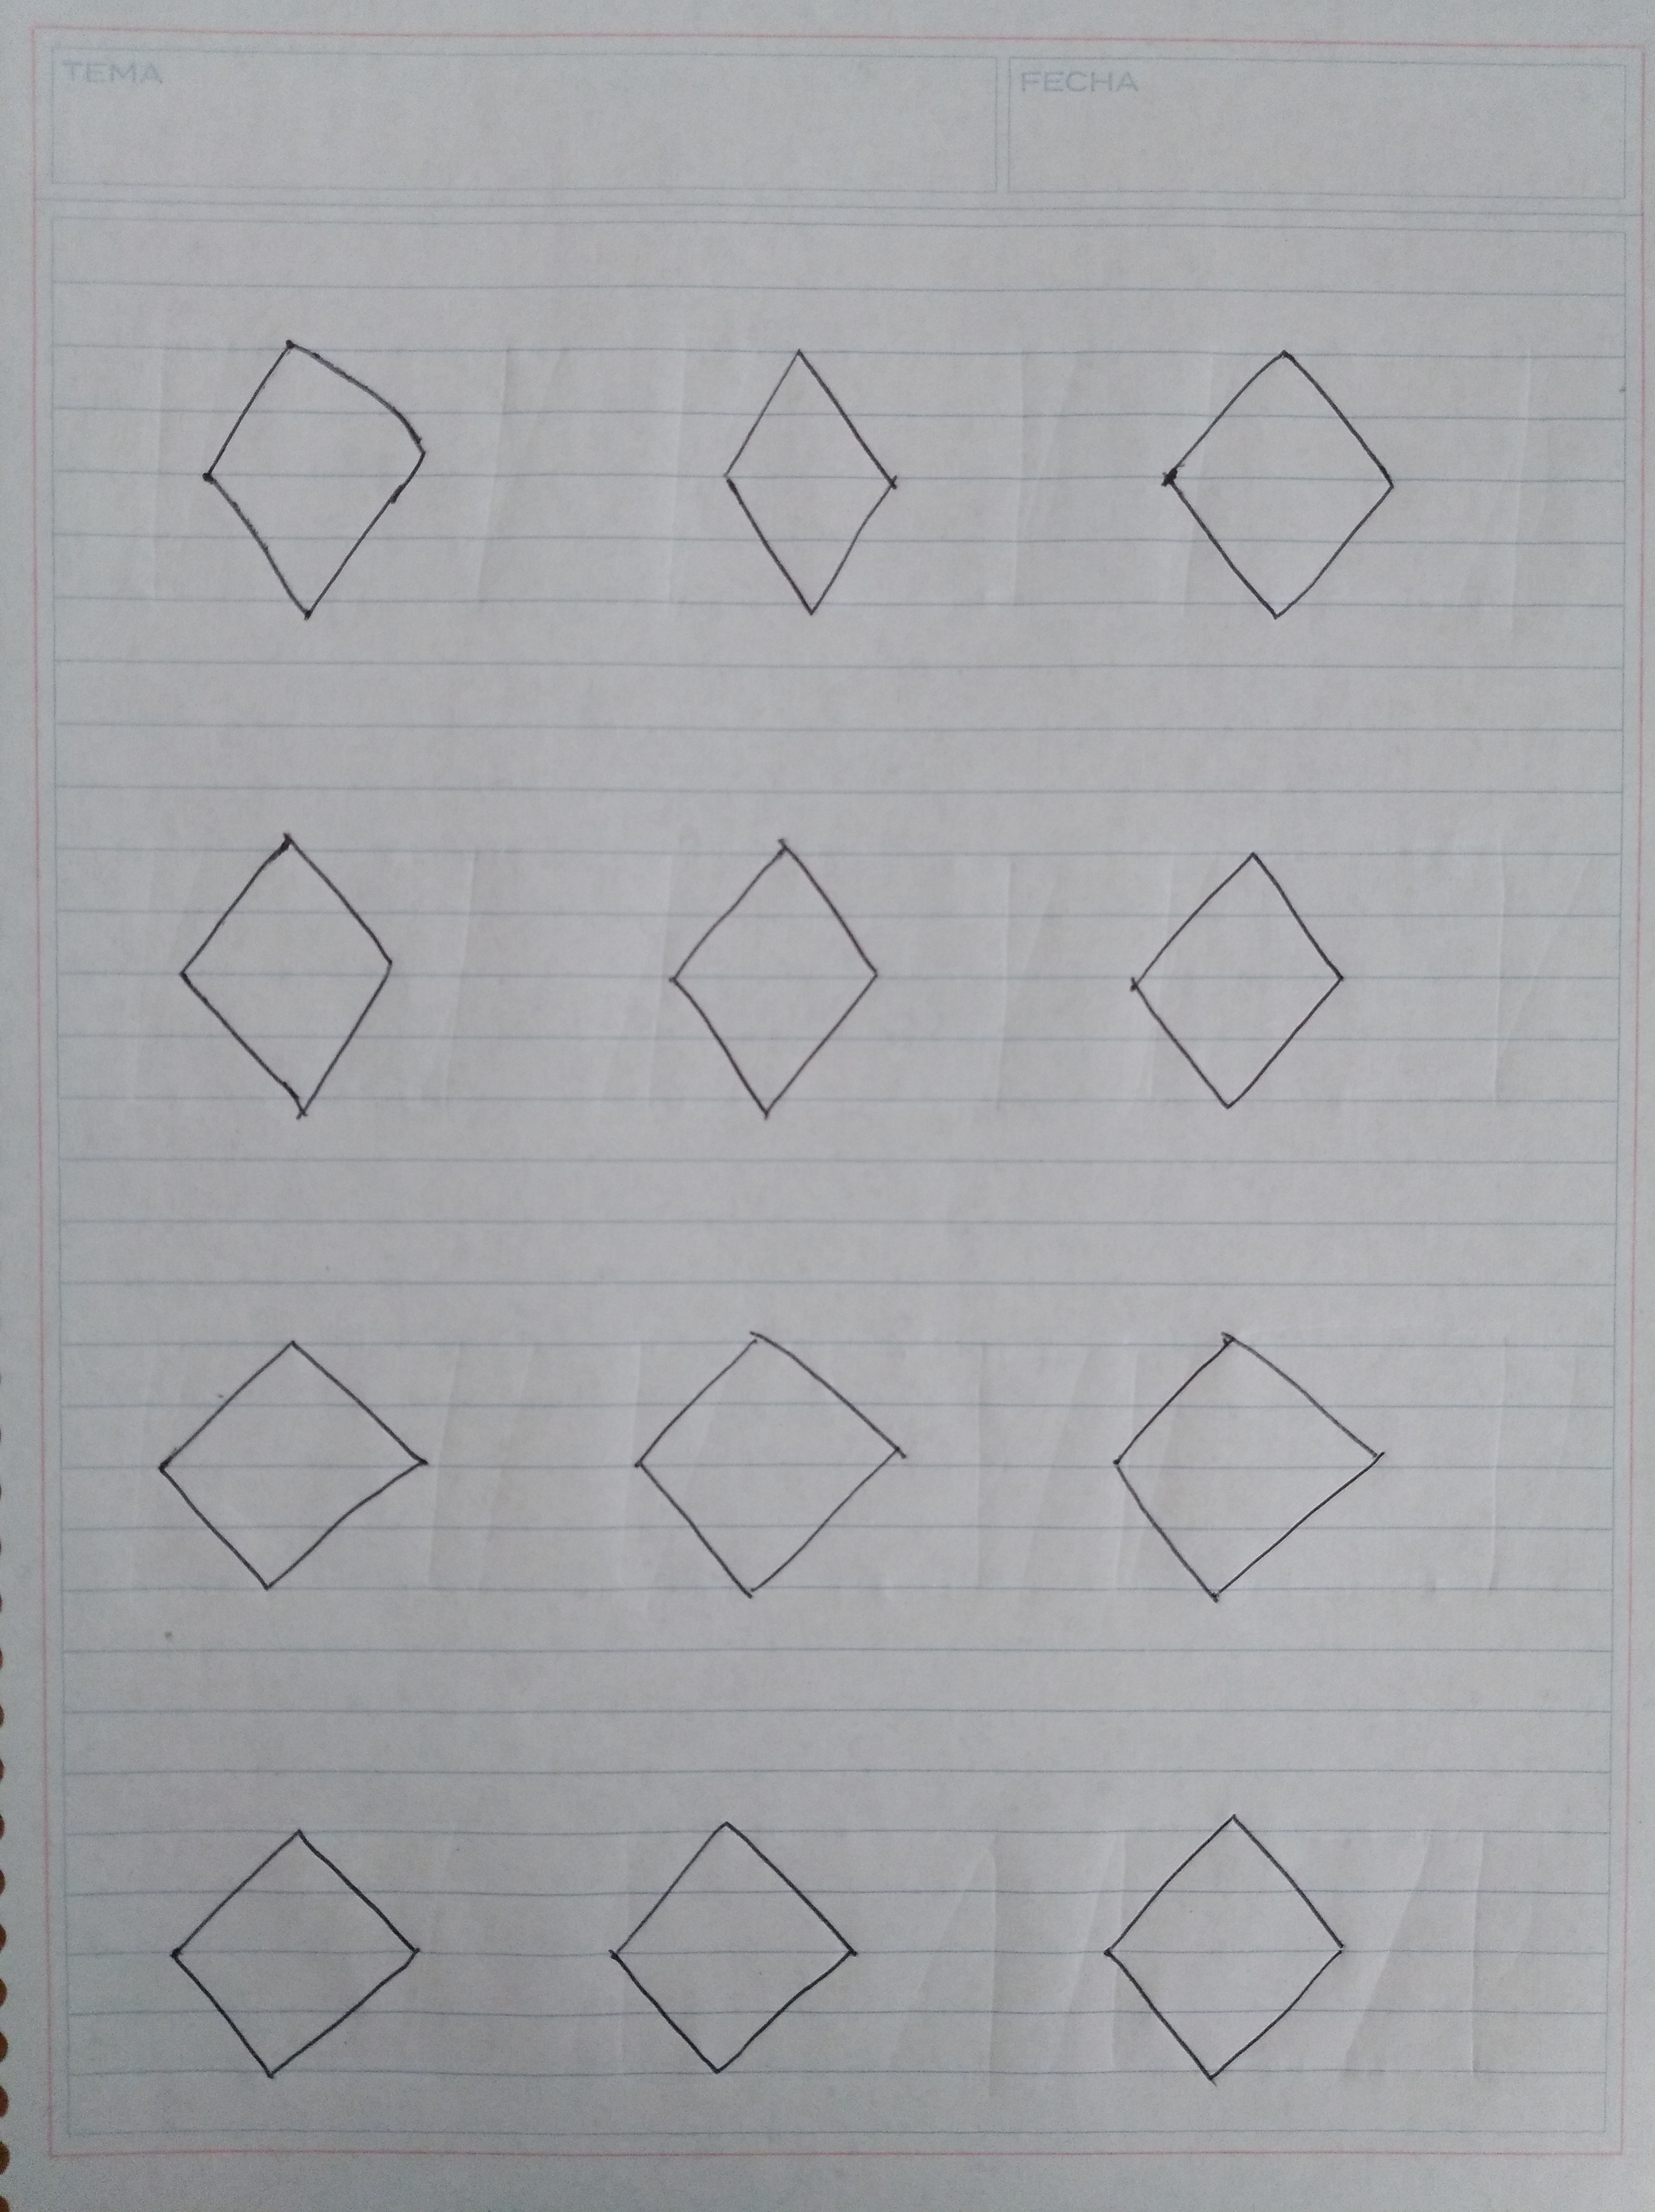decision: (1073, 1295, 1417, 1625), (122, 1303, 461, 1623), (603, 1301, 944, 1618), (165, 316, 464, 650), (156, 801, 443, 1142), (1132, 318, 1431, 643), (136, 1802, 457, 2103), (1092, 810, 1377, 1142), (1071, 1791, 1368, 2108), (574, 1802, 890, 2097), (669, 313, 939, 643), (641, 799, 897, 1143)
